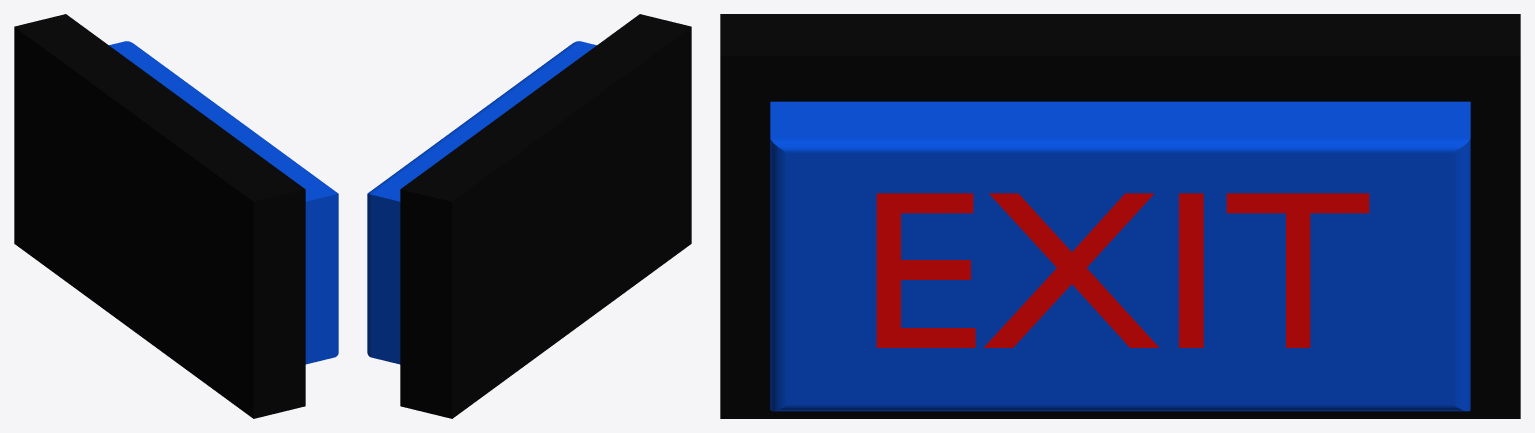
File: Exit.fbx
The picture shows the model from 3 angles, left to right: view 1: azimuth 30°, elevation 25°; view 2: azimuth 150°, elevation 25°; view 3: azimuth 270°, elevation 25°; orthographic projection. The views are drawn at different scales.
Visible parts, largest first — view 1: Cube, Exit; view 2: Cube, Exit; view 3: Exit, Cube.
Boxes of the visible parts, <box> form: Cube: <box>14,14,305,418</box>; Exit: <box>109,41,338,364</box>; Cube: <box>400,14,691,418</box>; Exit: <box>367,41,596,364</box>; Exit: <box>770,101,1470,411</box>; Cube: <box>720,14,1520,418</box>.
Bounding box in the file's own units: 20 × 40 × 80.
